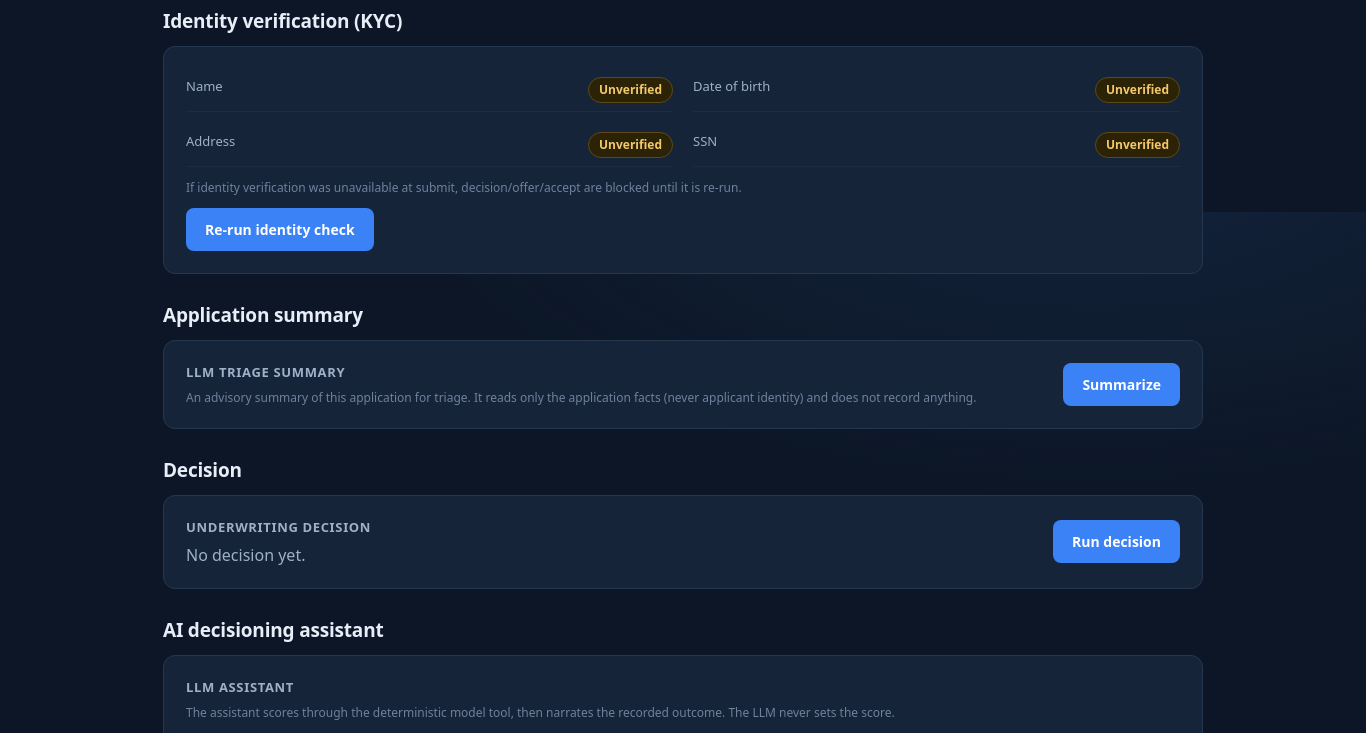
Test: underwriting detail — assistant panel › clears the application summary when the route moves to another application
The width and height of the screenshot is (1366, 733).
(page scrolled)
Click the button "Summarize".
click(1122, 384)  # box [1063,362,1180,406]
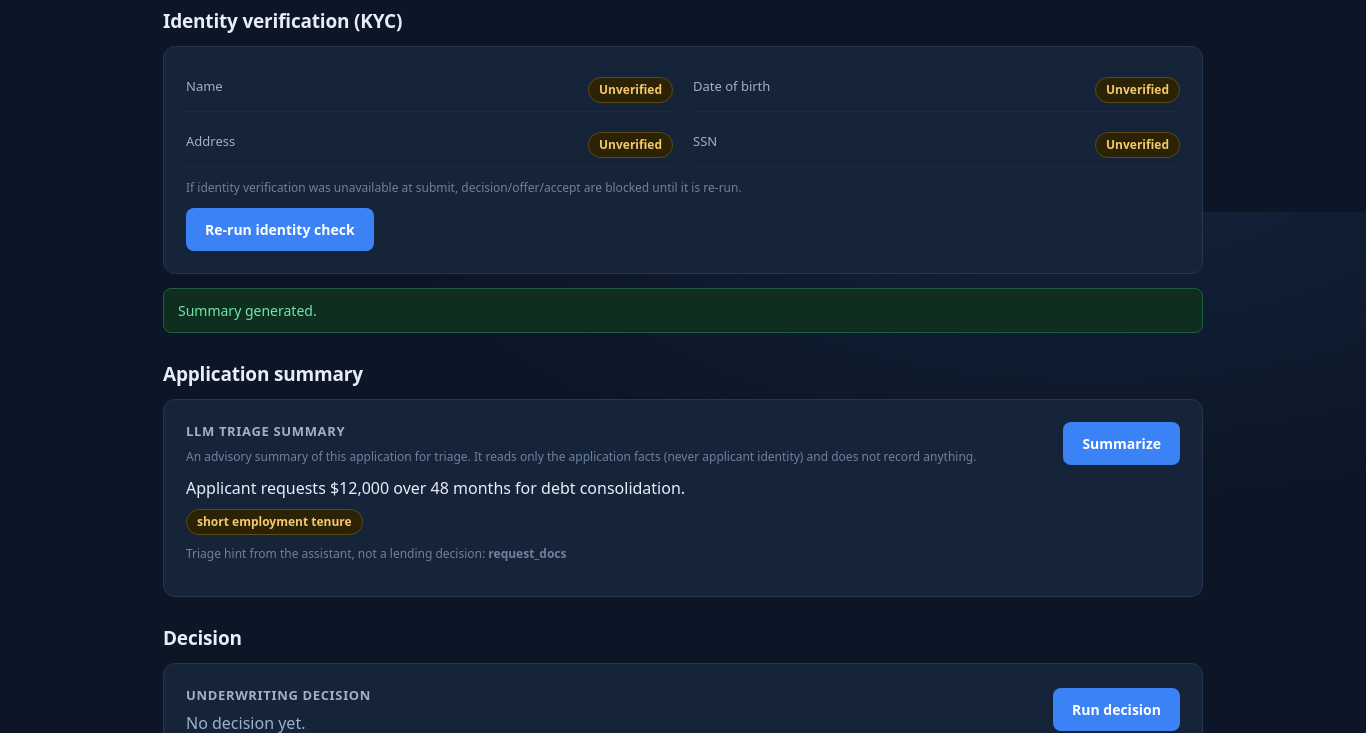
Expected: the text "Applicant requests $12,000 over 48 months for debt consolidation." is shown, [186,476,685,498]
